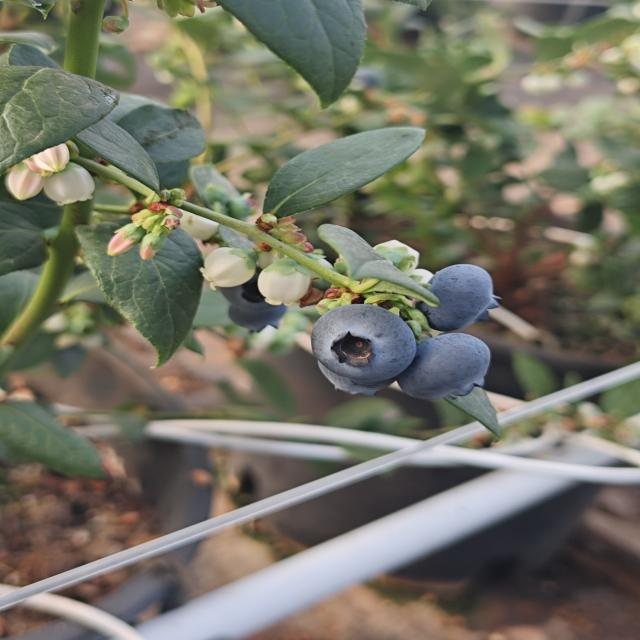ripe: (305, 300, 417, 399), (401, 326, 496, 401), (417, 259, 506, 330)
